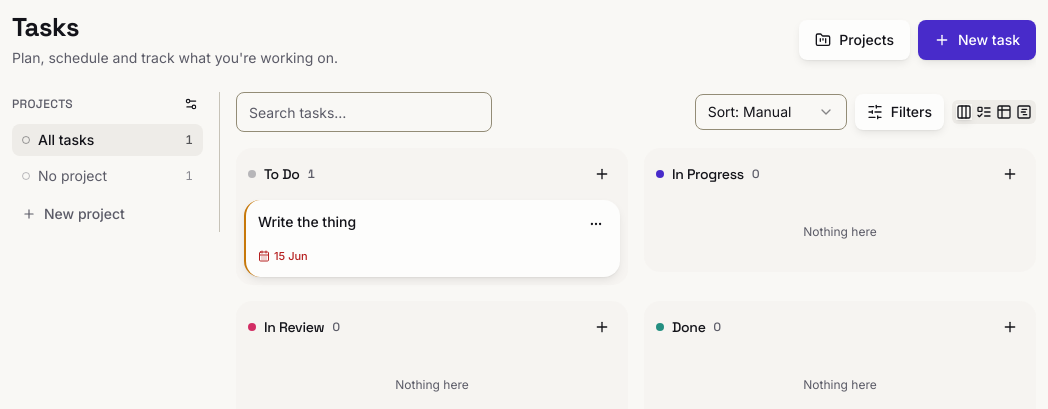
Scenario: TasksPage › switches between the four views
This screenshot has width=1048, height=409.
Click the radio button named "Table view" at [1004, 112], box [996, 104, 1012, 120]
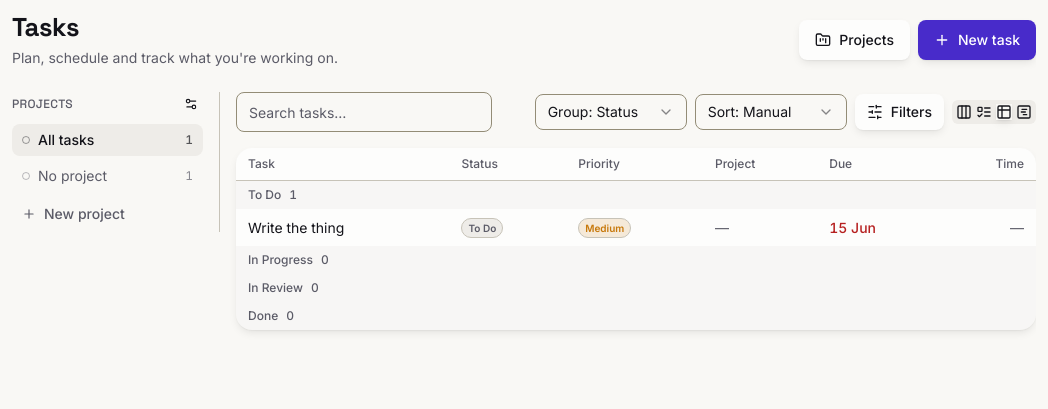
Expected: the table is shown, [236, 148, 1036, 330]
Click the radio button named "Timeline view" at [1024, 112], box [1016, 104, 1032, 120]
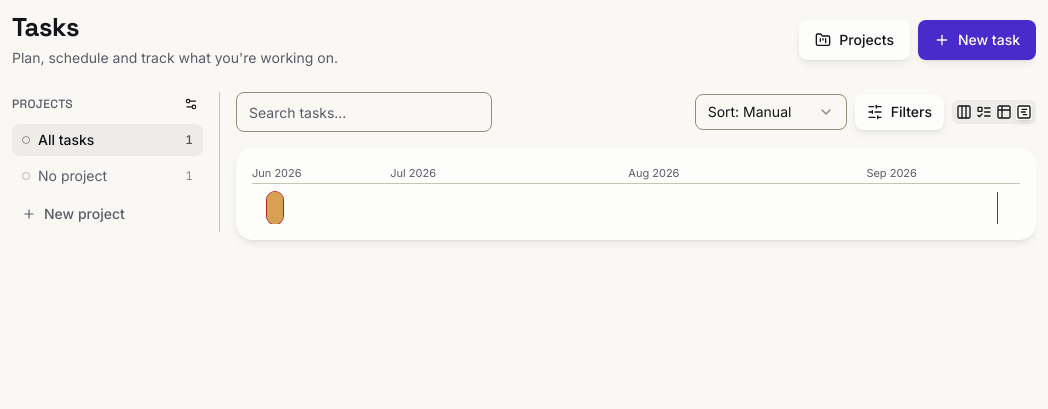
Expected: the table is gone
